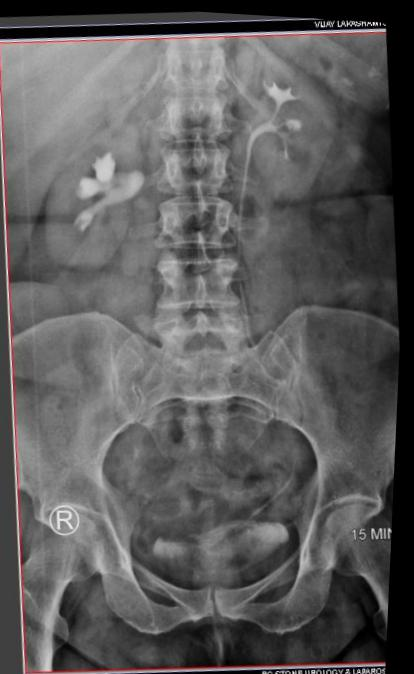bladder: (117, 503, 300, 611)
left kidney: (224, 18, 354, 206)
right kidney: (5, 90, 145, 279)
vertebrae: (140, 70, 227, 136)
